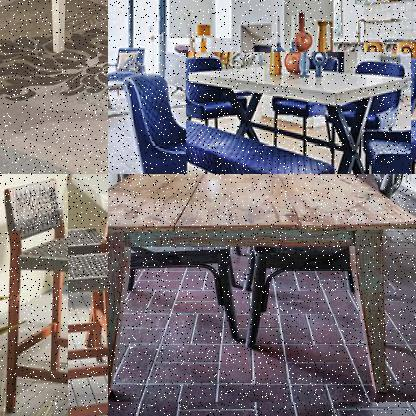table: (108, 174, 415, 403), (185, 52, 413, 173), (0, 0, 107, 173), (68, 174, 107, 415)
